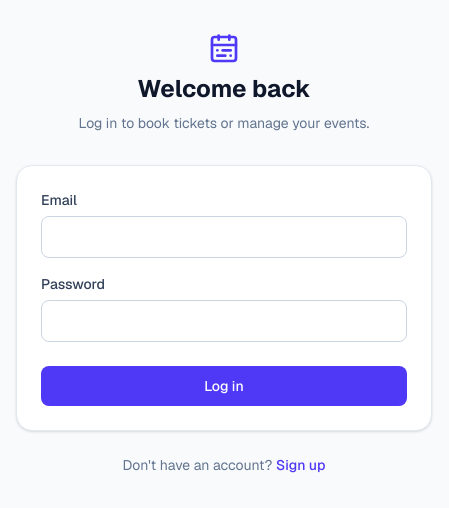
LoginPage › shows a server error message when login fails
In the field labelled "Email": (224, 237) [41,216,407,258], type "alice@test.com"
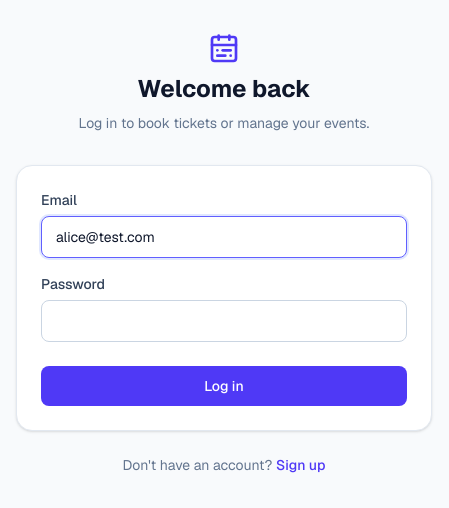
In the password field labelled "Password": (224, 321) [41,300,407,342], type "wrong"
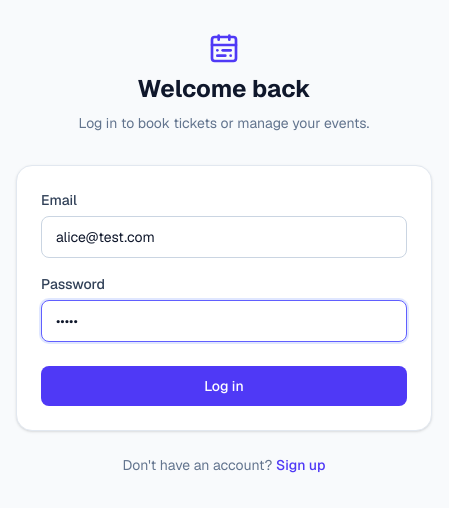
Click the button "Log in": (224, 386) [41,366,407,406]
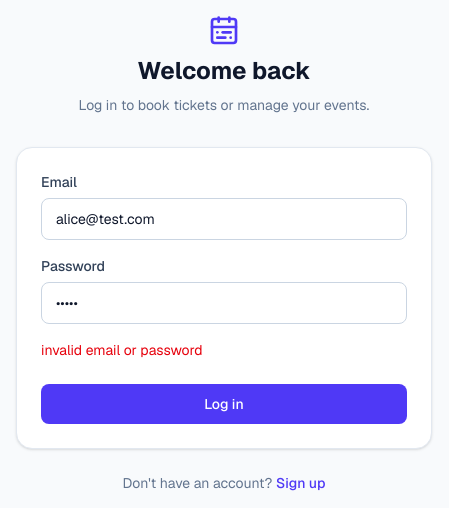
Expected: the text "invalid email or password" is shown, [41,341,202,359]
